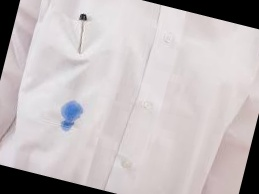ink: (57, 97, 84, 135)
